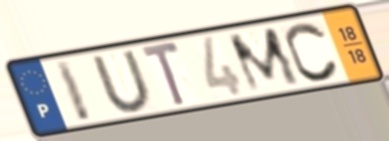4: (203, 34, 246, 98)
C: (283, 20, 342, 84)
I: (52, 57, 95, 125)
M: (224, 24, 304, 96)
T: (137, 38, 188, 110)
U: (88, 48, 157, 115)
